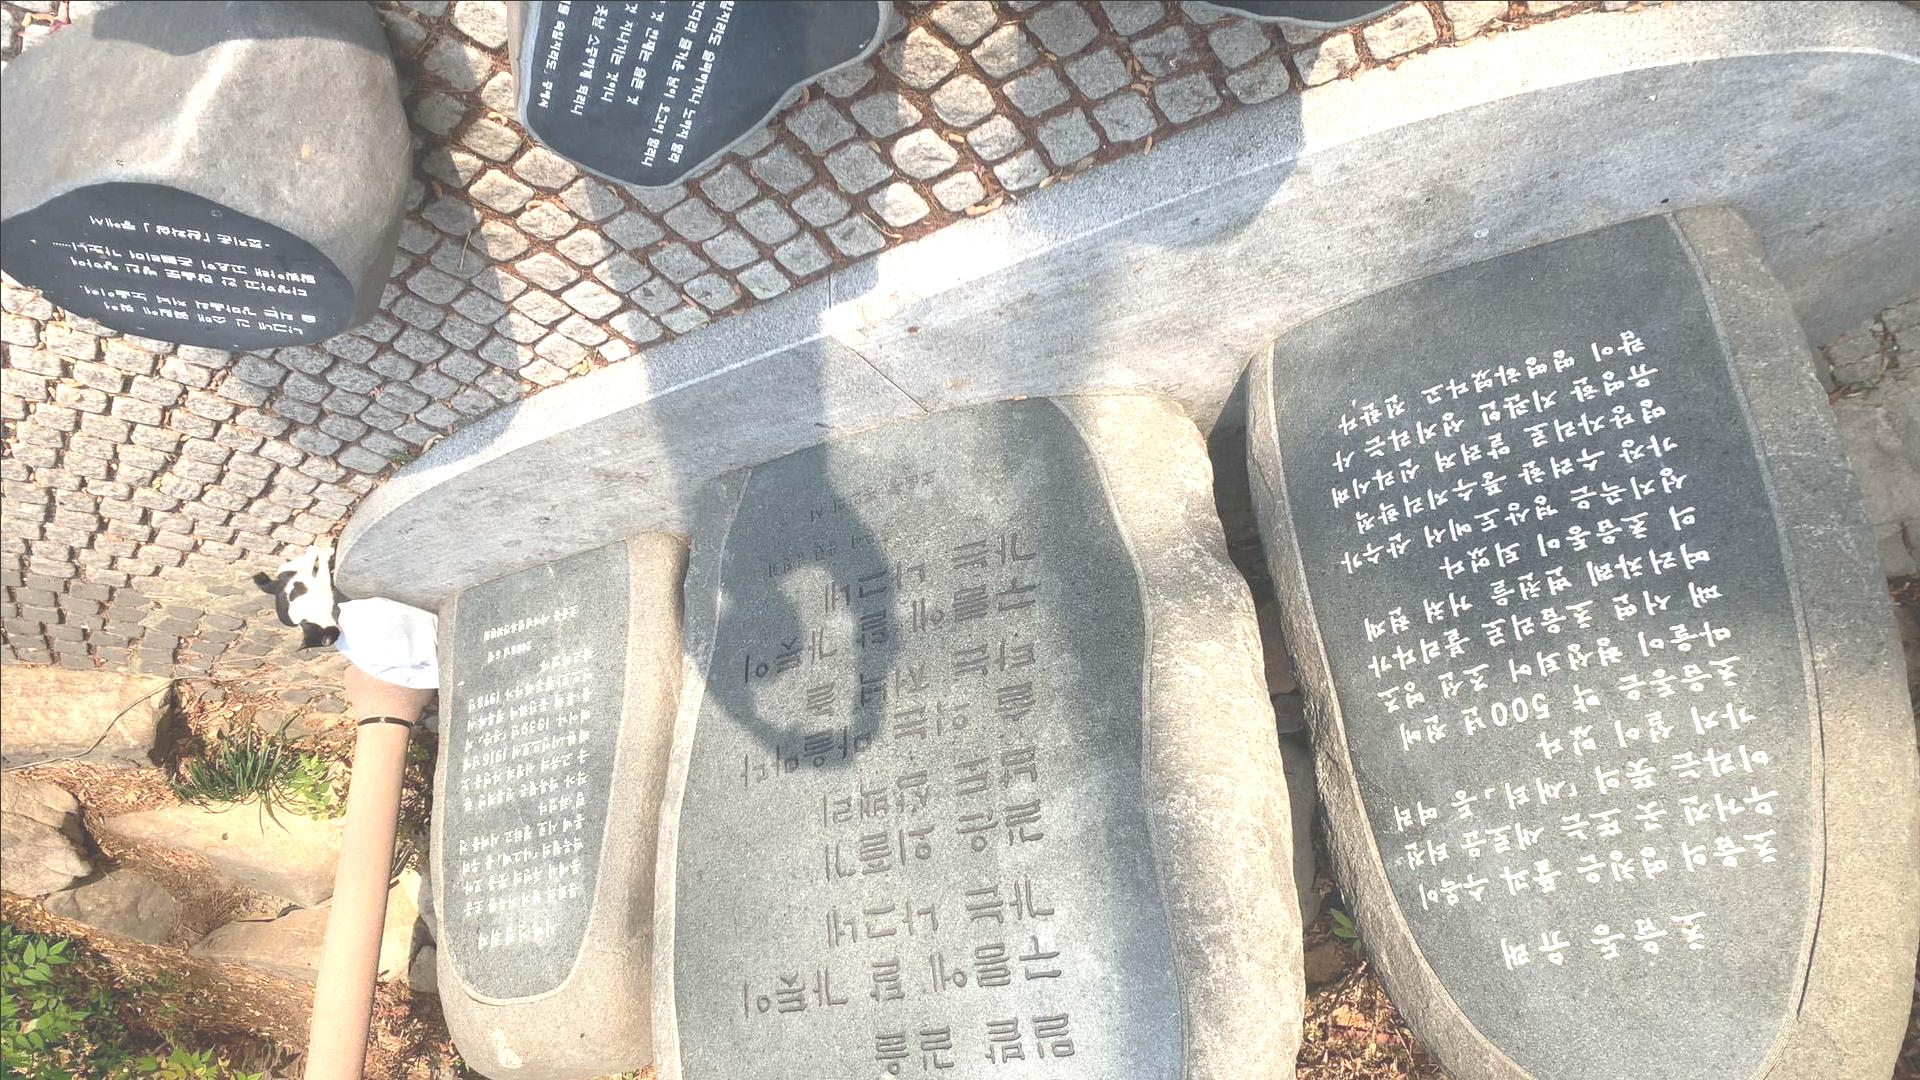white_bag: (332, 597, 452, 696)
